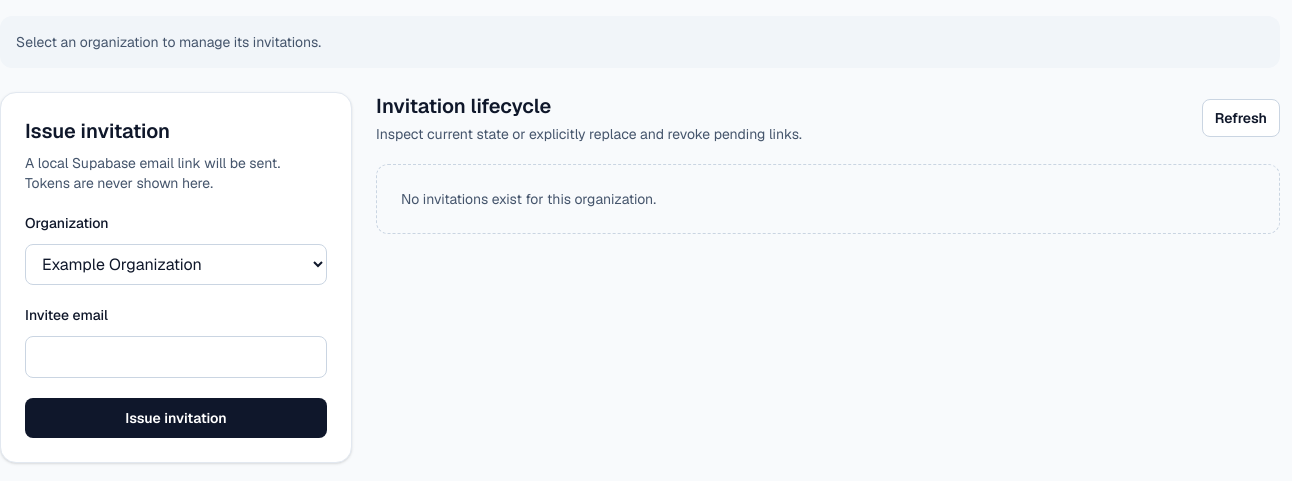
InvitationManager › provides labeled, keyboard-native controls and normalizes issuance
Expected: the text "No invitations exist for this organization." is shown, [376,164,1280,234]
Expected: the dropdown labelled "Organization" shows "Example Organization", [25,244,327,285]
Type "  CLIENT@Example.TEST " into the field labelled "Invitee email". click: [176, 357]
box: [25,336,327,378]
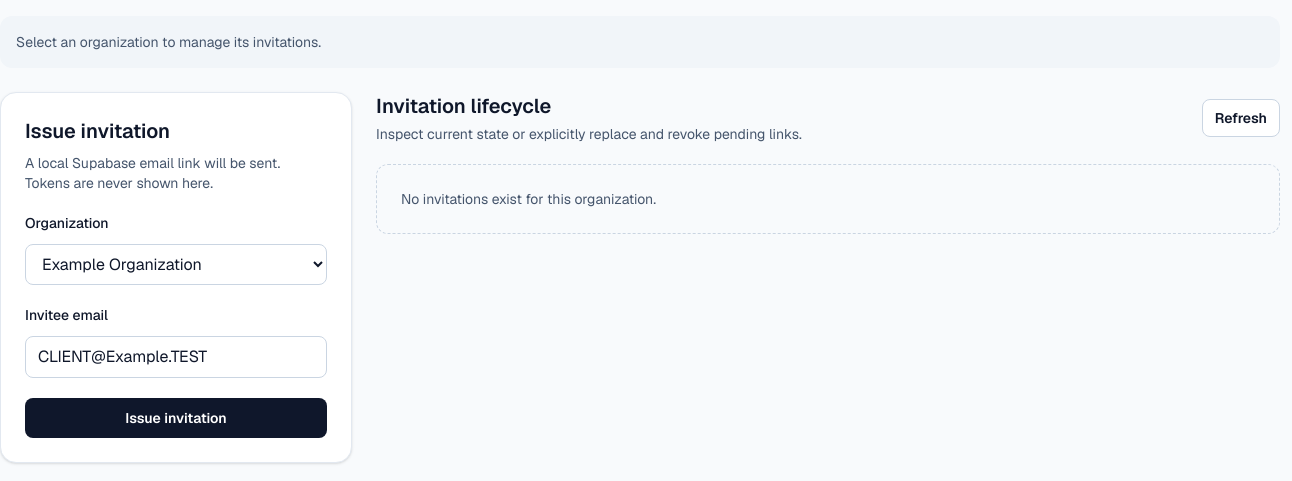
Click the button "Issue invitation". click: [176, 418]
box: [25,398,327,438]
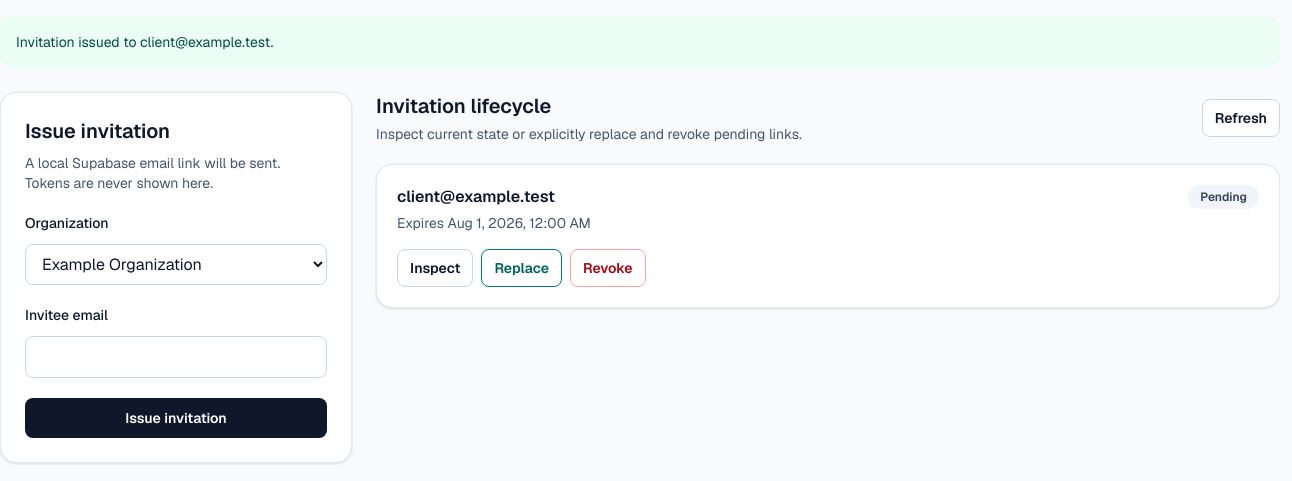
Now the text "Invitation issued to client@example.test." is shown, box [0,16,1280,68]
